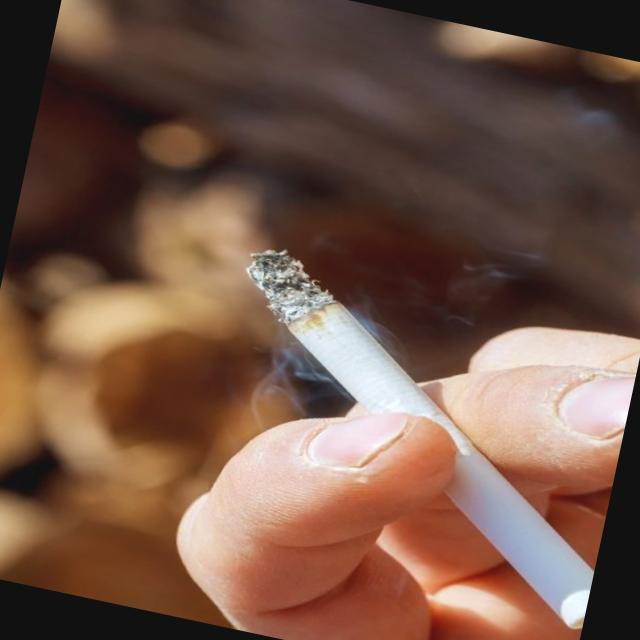cigarette: (200, 206, 447, 439)
